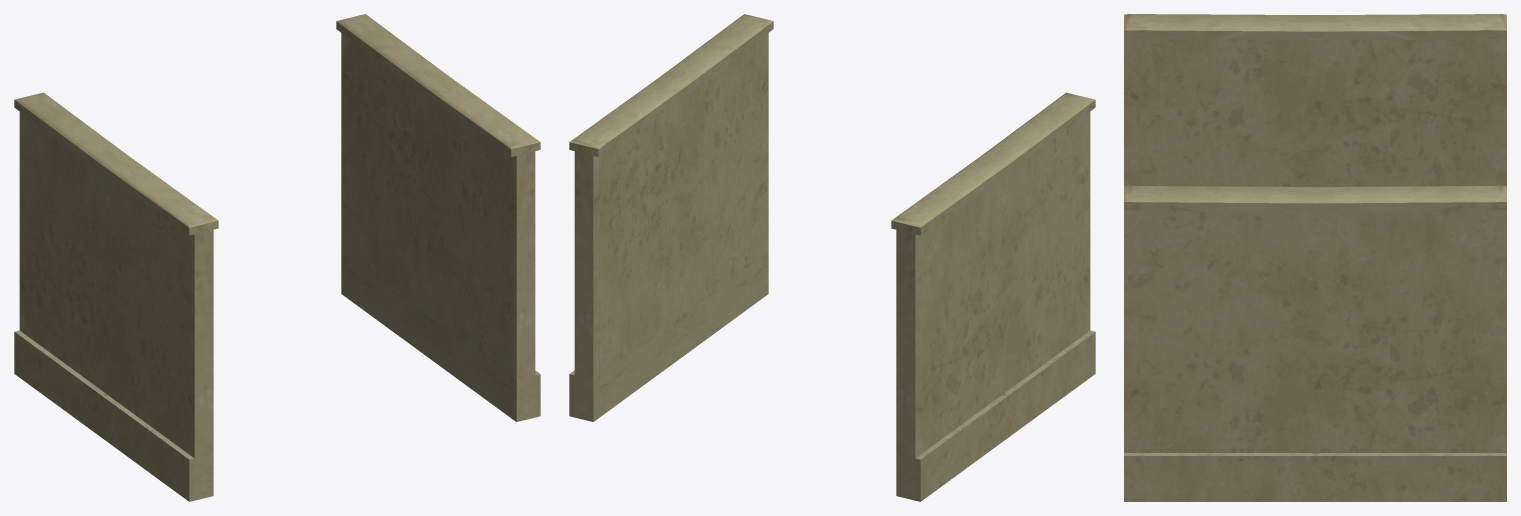
Rendered from Stairs_Rails_Marble_Straight_2.gltf.
3 views of the same model, side by side, from view 1: azimuth 30°, elevation 25°; view 2: azimuth 150°, elevation 25°; view 3: azimuth 270°, elevation 25° (orthographic). The views are drawn at different scales.
Visible parts, largest first — view 1: Stairs_Rails_Marble_Straight_2; view 2: Stairs_Rails_Marble_Straight_2; view 3: Stairs_Rails_Marble_Straight_2.
Boxes of the visible parts, x1,y1,x2,y2 form: Stairs_Rails_Marble_Straight_2: [14, 14, 540, 501]; Stairs_Rails_Marble_Straight_2: [569, 14, 1095, 501]; Stairs_Rails_Marble_Straight_2: [1124, 14, 1506, 501].
Bounding box in the file's own units: 2.32 × 1.74 × 2.
1 material, 1 textured.
